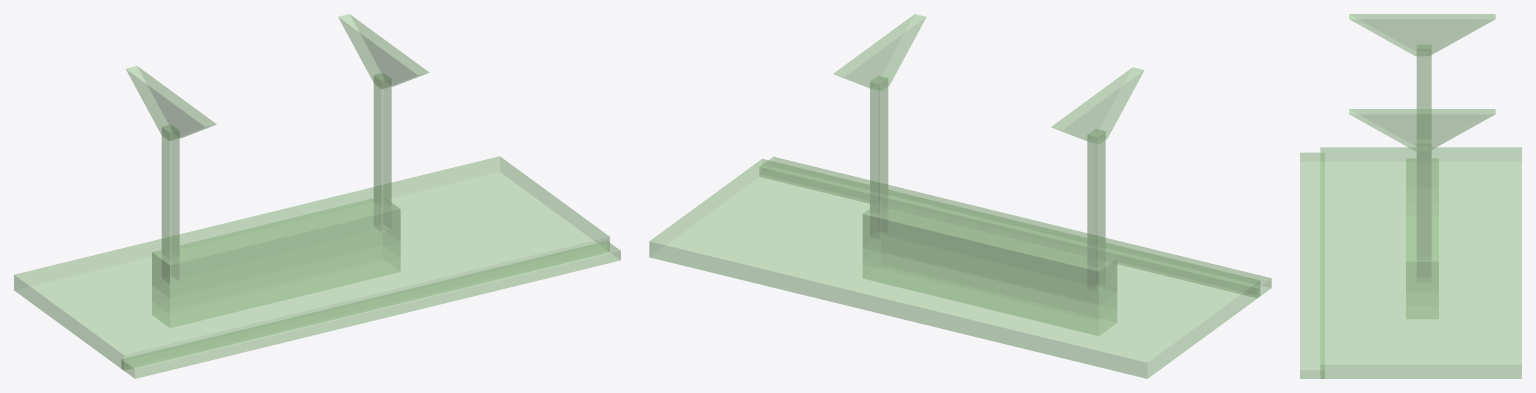
File: kisaragi_collider.fbx
The picture shows the model from 3 angles, left to right: view 1: azimuth 30°, elevation 25°; view 2: azimuth 150°, elevation 25°; view 3: azimuth 270°, elevation 25°; orthographic projection. The views are drawn at different scales.
Visible parts, largest first — view 1: kisaragi_collider; view 2: kisaragi_collider; view 3: kisaragi_collider.
Part boxes in pixels (x1,y1,x2,y2): kisaragi_collider: [14, 14, 620, 378]; kisaragi_collider: [649, 14, 1271, 378]; kisaragi_collider: [1300, 14, 1521, 378].
Bounding box in the file's own units: 1525 × 668 × 658.
